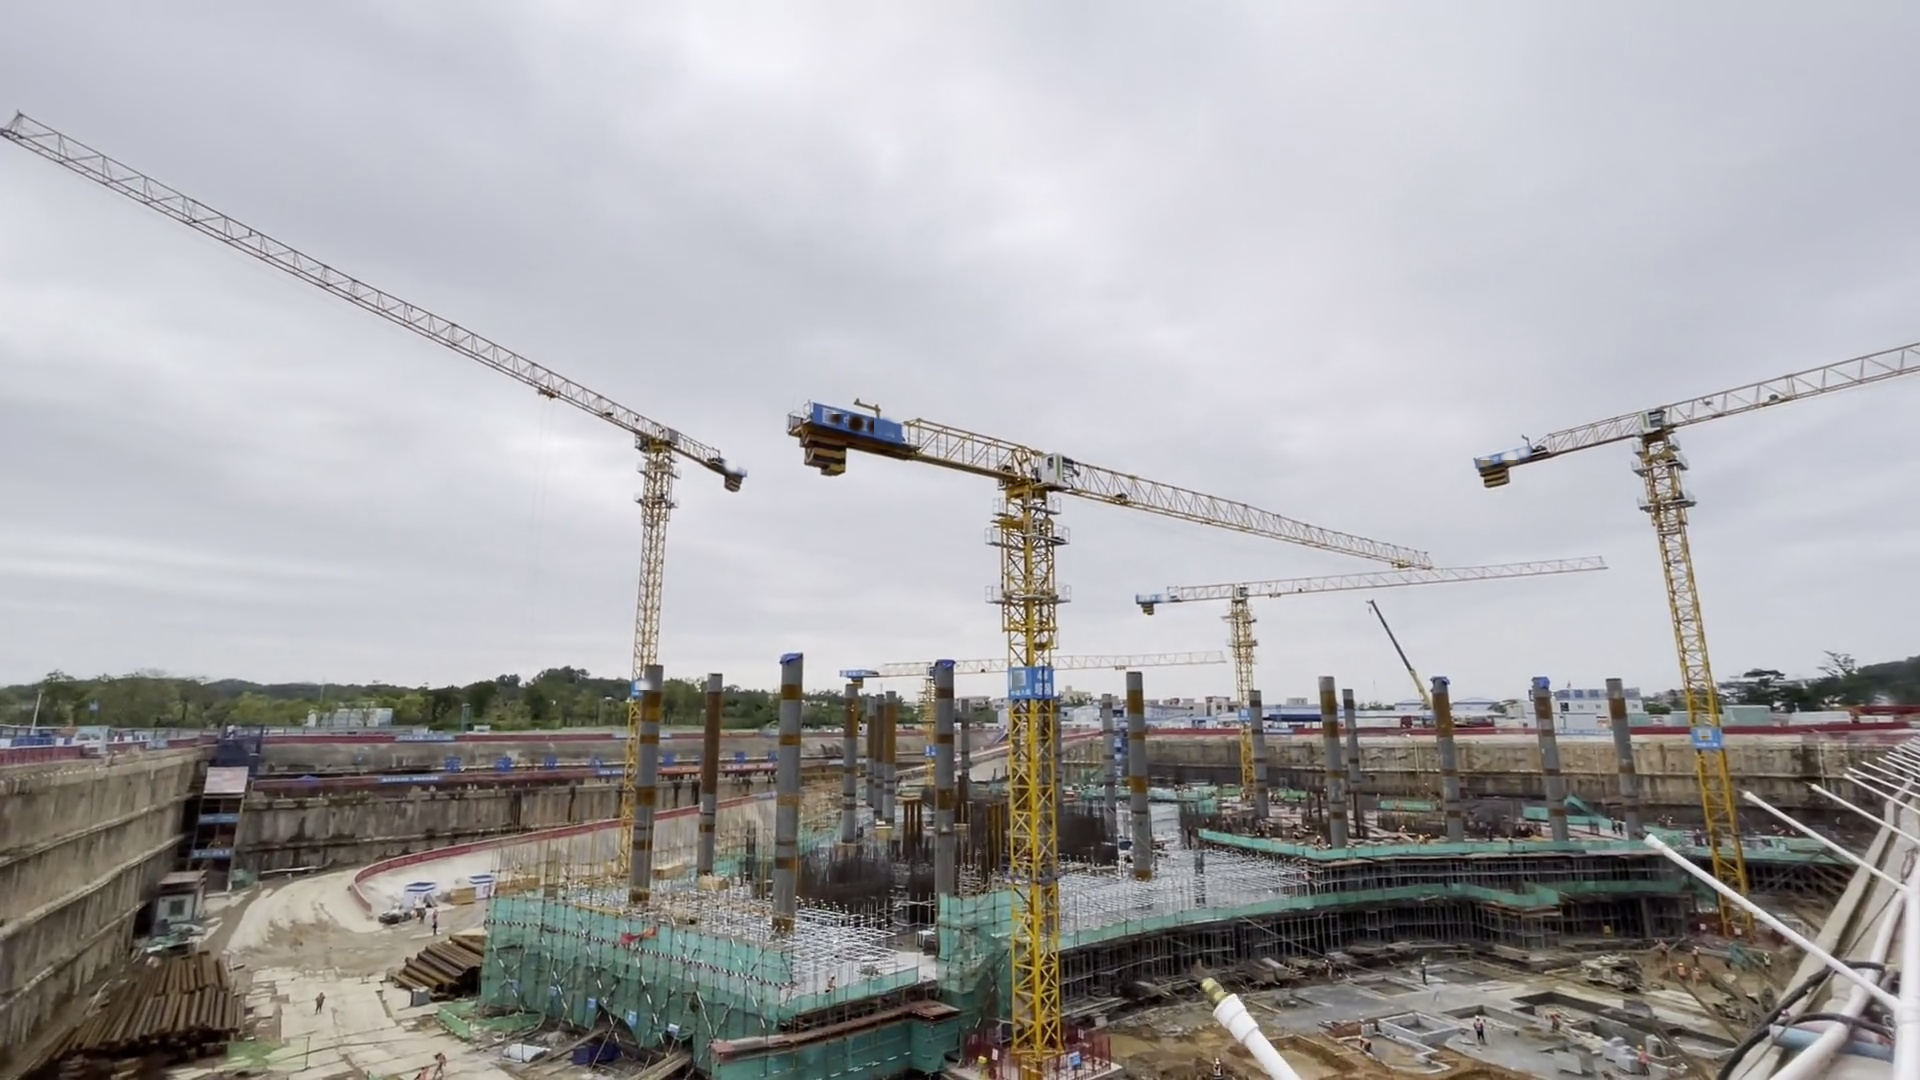brick: (918, 925, 943, 956)
fence: (449, 818, 616, 851), (294, 770, 598, 786), (286, 731, 619, 743)
helmet: (1475, 1013, 1480, 1020), (1357, 1034, 1361, 1040), (318, 990, 323, 993)
hopper: (572, 1041, 622, 1065)
person: (1631, 1041, 1652, 1073), (1472, 1011, 1489, 1048), (313, 989, 329, 1018), (1417, 952, 1431, 987), (1356, 1034, 1376, 1051), (1674, 957, 1688, 980)
slogan: (441, 755, 606, 774), (1029, 665, 1061, 700), (379, 773, 446, 782), (394, 733, 457, 743), (659, 768, 701, 773)
vest: (1361, 1035, 1370, 1046), (317, 995, 325, 1006), (1475, 1020, 1482, 1032)
wood: (445, 883, 478, 906), (698, 873, 731, 891), (651, 862, 686, 879)
